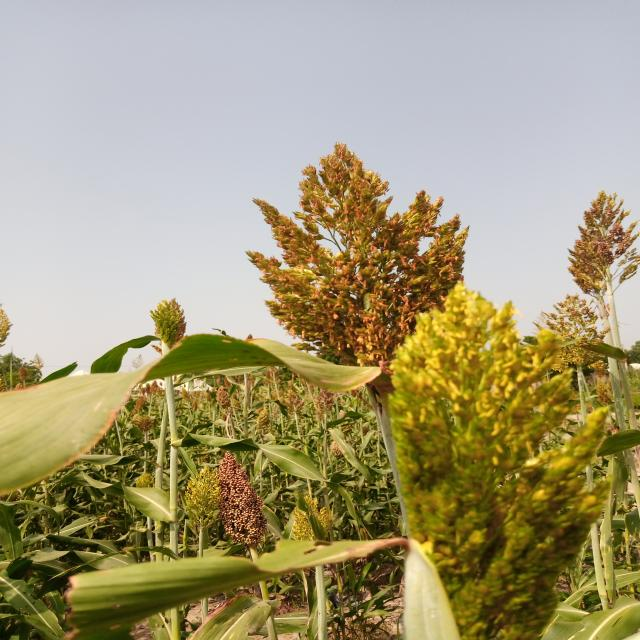UnripeSorghum: (373, 282, 634, 640)
